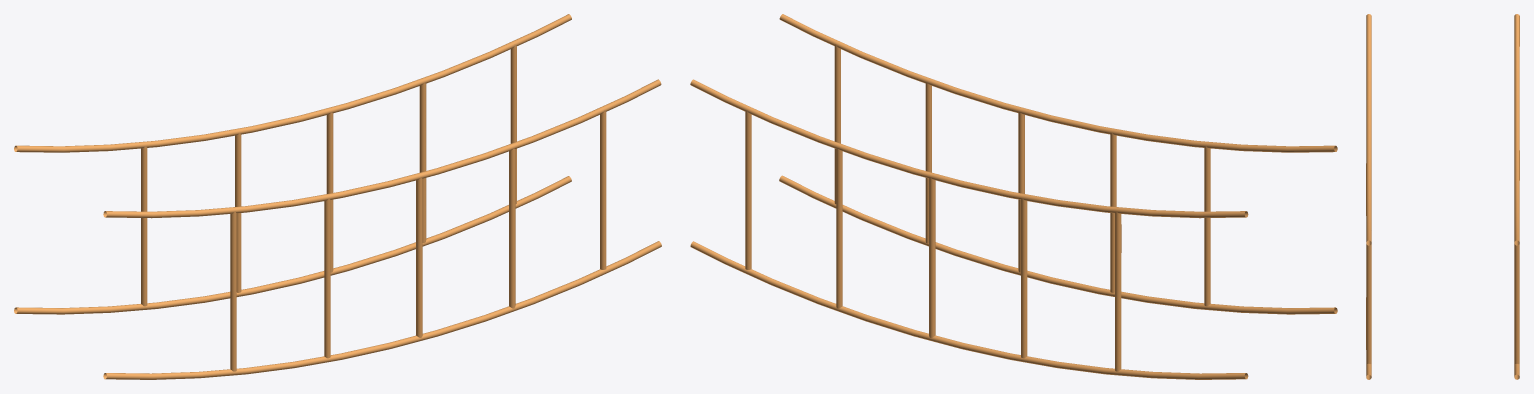
File: rope.fbx
The picture shows the model from 3 angles, left to right: view 1: azimuth 30°, elevation 25°; view 2: azimuth 150°, elevation 25°; view 3: azimuth 270°, elevation 25°; orthographic projection. The views are drawn at different scales.
Visible parts, largest first — view 1: rope; view 2: rope; view 3: rope.
Boxes of the visible parts, box(x1,y1,x2,y2) form: rope: box(14, 14, 661, 379); rope: box(690, 14, 1337, 379); rope: box(1366, 14, 1519, 379).
Bounding box in the file's own units: 1.96 × 0.5662 × 0.6971.
